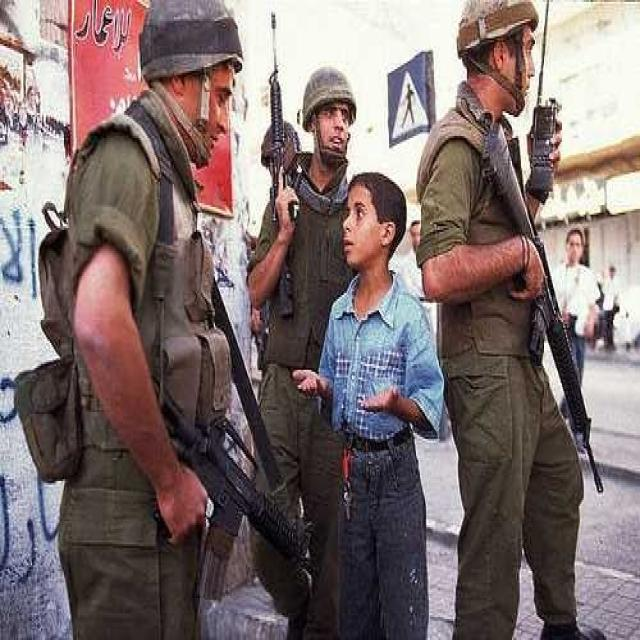Rifle: (480, 101, 608, 514)
